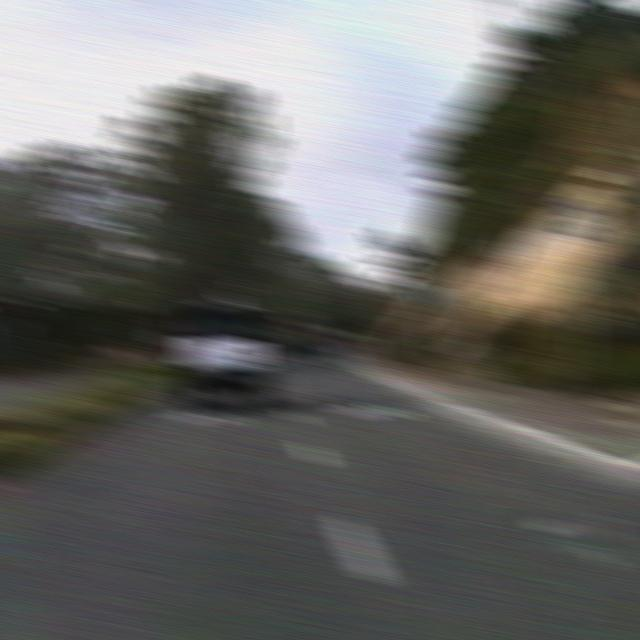speedLimit40: (557, 195, 599, 245)
